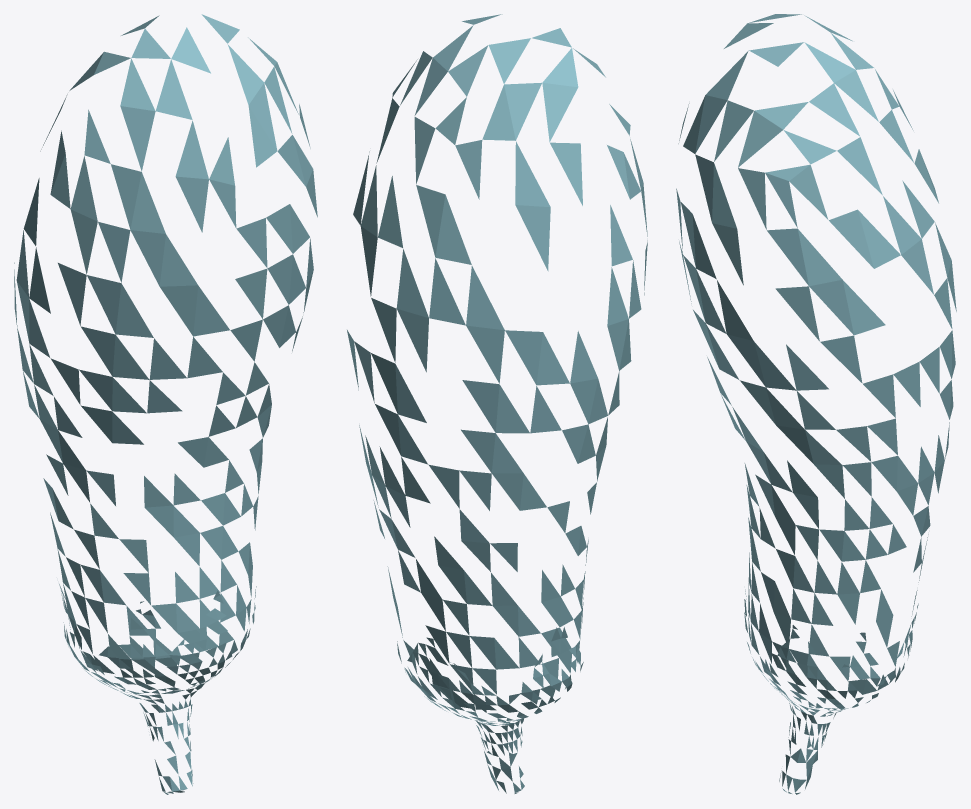
The model's file is food_produce_eggplant_b01.glb.
3 renders of one model, left to right at view 1: azimuth 30°, elevation 25°; view 2: azimuth 150°, elevation 25°; view 3: azimuth 270°, elevation 25°, orthographic.
Visible parts, largest first — view 1: geometry_0; view 2: geometry_0; view 3: geometry_0.
Part boxes in pixels (bbox=[...]): geometry_0: bbox=[14, 14, 317, 794]; geometry_0: bbox=[347, 14, 647, 793]; geometry_0: bbox=[676, 14, 956, 794].
Bounding box in the file's own units: 0.1749 × 0.48 × 0.1586.
